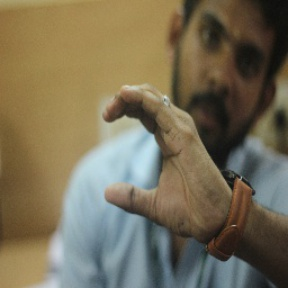C: (96, 82, 219, 235)
